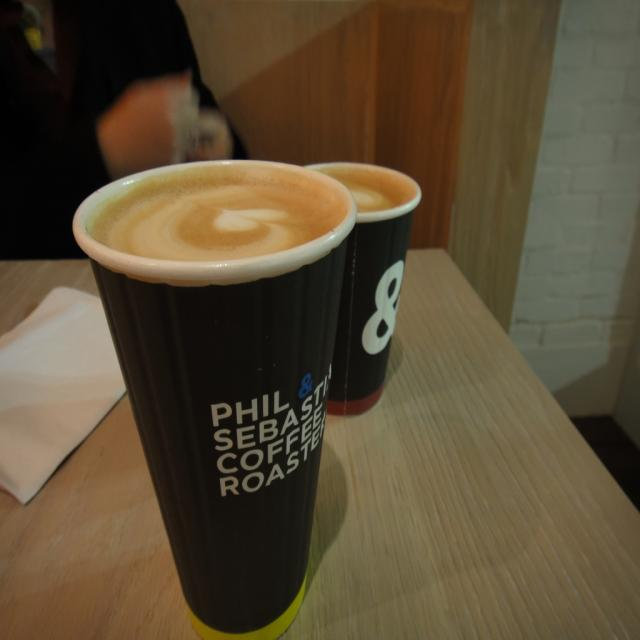Coffee: (88, 175, 340, 267), (288, 178, 403, 215)
